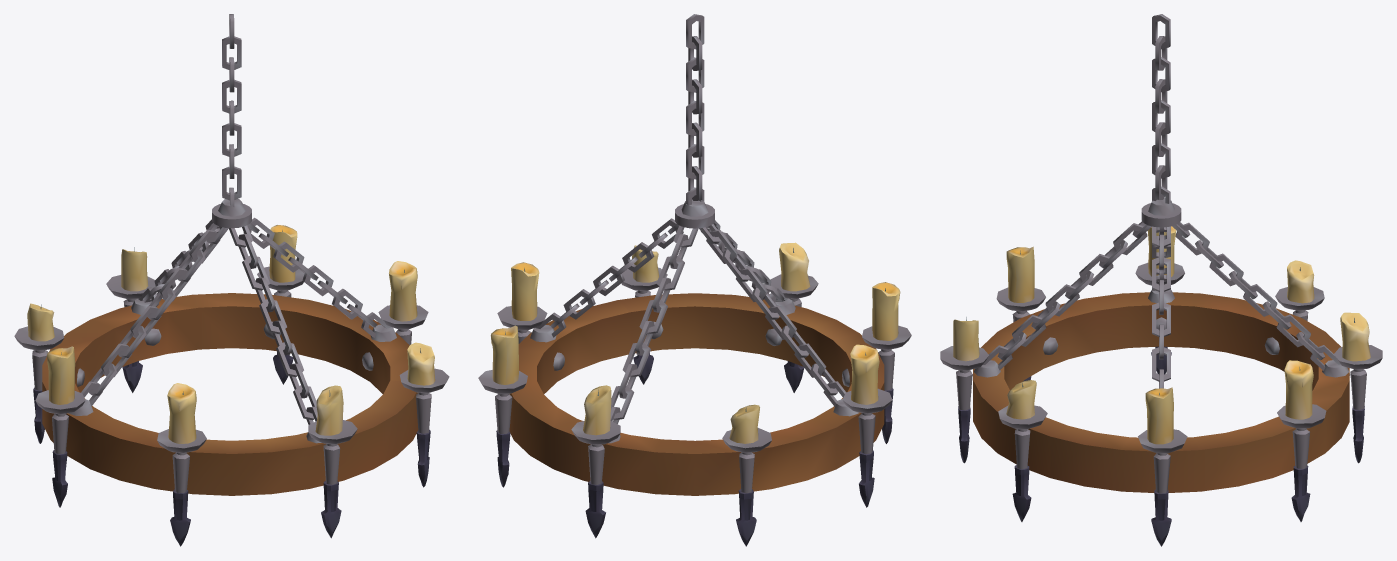
Rendered from chandelier.glb.
3 views of the same model, side by side, from view 1: azimuth 30°, elevation 25°; view 2: azimuth 150°, elevation 25°; view 3: azimuth 270°, elevation 25° (orthographic).
Parts seen in each view (by area): view 1: chandelier; view 2: chandelier; view 3: chandelier.
Boxes of the visible parts, x1,y1,x2,y2 form: chandelier: [14, 14, 449, 546]; chandelier: [478, 14, 911, 546]; chandelier: [940, 14, 1382, 546].
Size of the model in its own units: 1.3 by 1.46 by 1.3.
